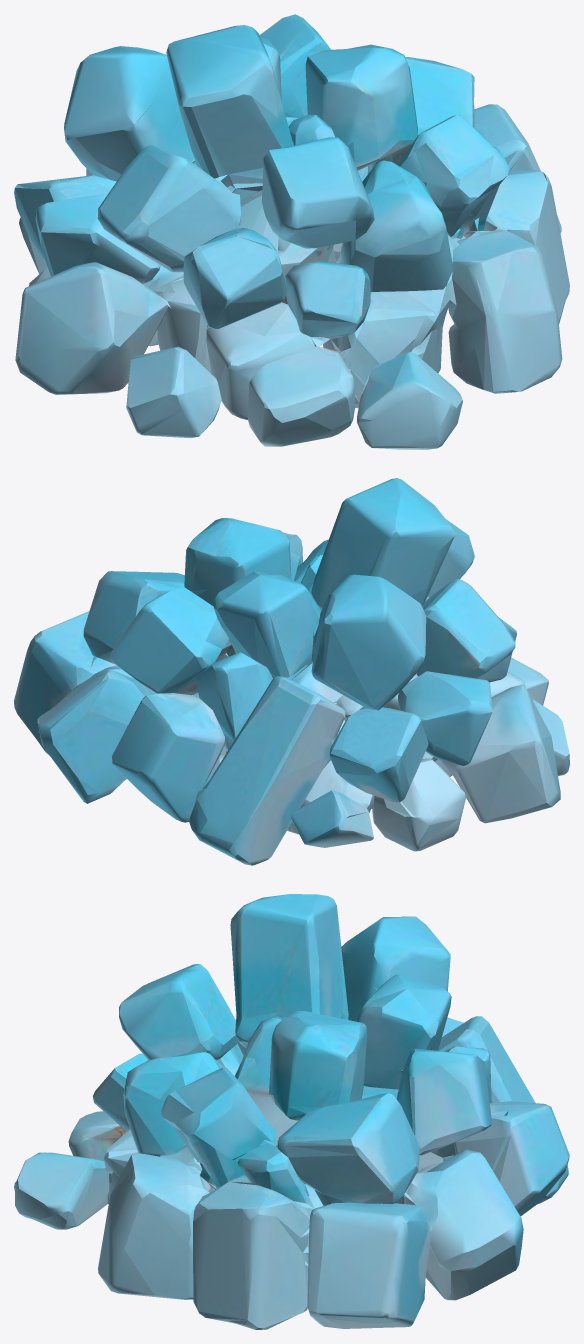
File: ice_crystals.glb
3 views of the same model, one above another, from view 1: azimuth 30°, elevation 25°; view 2: azimuth 150°, elevation 25°; view 3: azimuth 270°, elevation 25° (orthographic). The views are drawn at different scales.
Size of the model in its own units: 1.9 by 1.05 by 1.79.
Materials: 1 (1 with a texture image).
